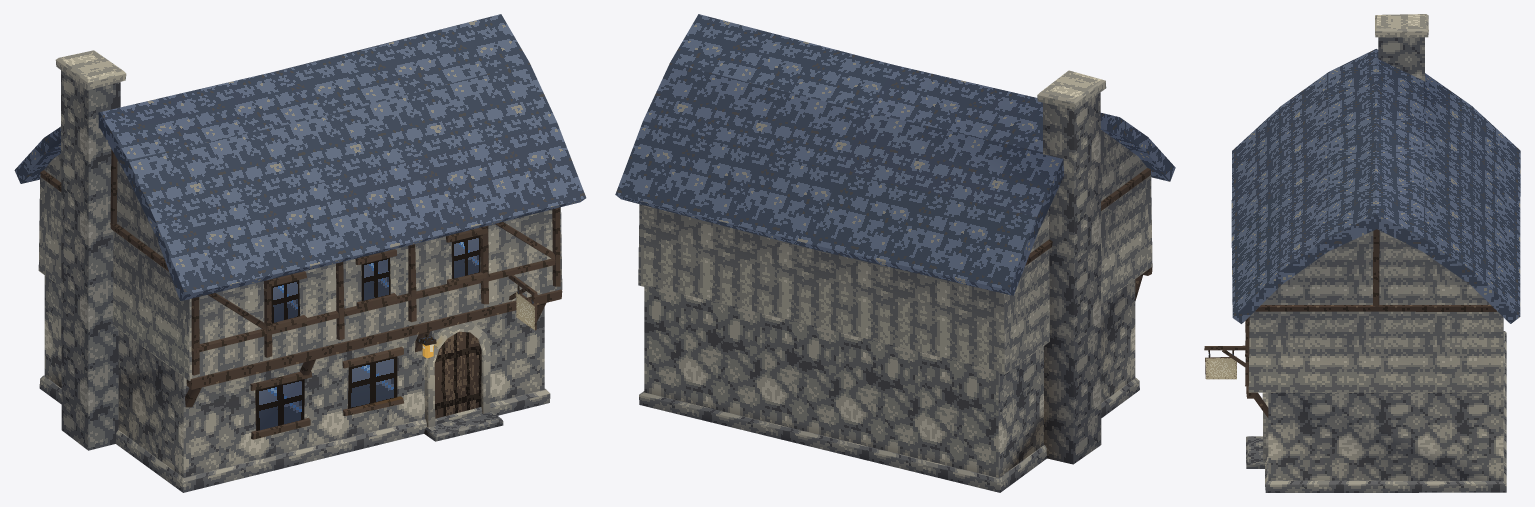
Rendered from vlg.tavern__thatch.glb.
3 renders of one model, left to right at view 1: azimuth 30°, elevation 25°; view 2: azimuth 150°, elevation 25°; view 3: azimuth 270°, elevation 25°, orthographic. The views are drawn at different scales.
Parts seen in each view (by area): view 1: kit_roof, kit_walls, kit_stonework, kit_fittings, kit_frame; view 2: kit_walls, kit_roof, kit_stonework, kit_frame; view 3: kit_roof, kit_walls, kit_stonework, kit_frame, kit_fittings.
Part boxes in pixels (<box>): kit_roof: <box>14,14,586,301</box>; kit_walls: <box>38,153,562,477</box>; kit_stonework: <box>39,50,550,492</box>; kit_fittings: <box>250,227,537,441</box>; kit_frame: <box>40,149,562,407</box>; kit_walls: <box>638,130,1152,477</box>; kit_roof: <box>615,14,1175,295</box>; kit_stonework: <box>639,70,1139,492</box>; kit_frame: <box>1025,168,1152,300</box>; kit_roof: <box>1231,49,1520,323</box>; kit_walls: <box>1248,231,1503,481</box>; kit_stonework: <box>1265,14,1506,492</box>; kit_frame: <box>1245,229,1496,417</box>; kit_fittings: <box>1204,320,1268,468</box>.
Size of the model in its own units: 10.35 by 8.87 by 8.07.
Materials: 11 (11 with a texture image).
